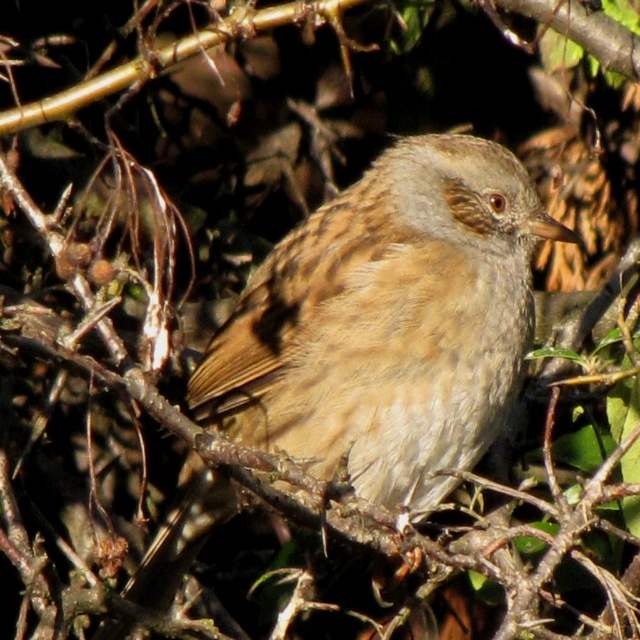Sparrow: (119, 133, 584, 608)
